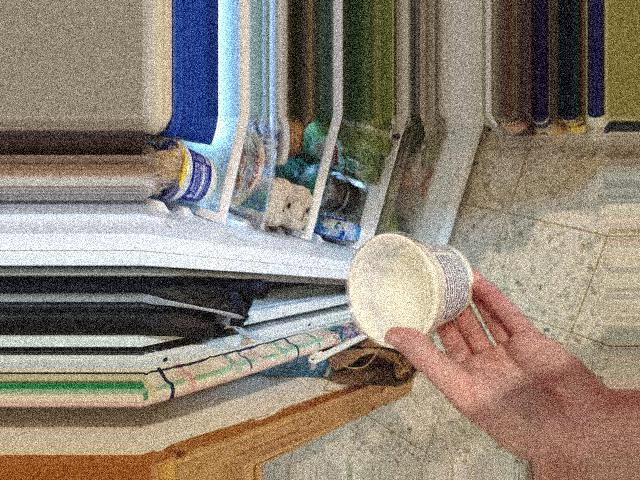cotage: (352, 235, 472, 334)
